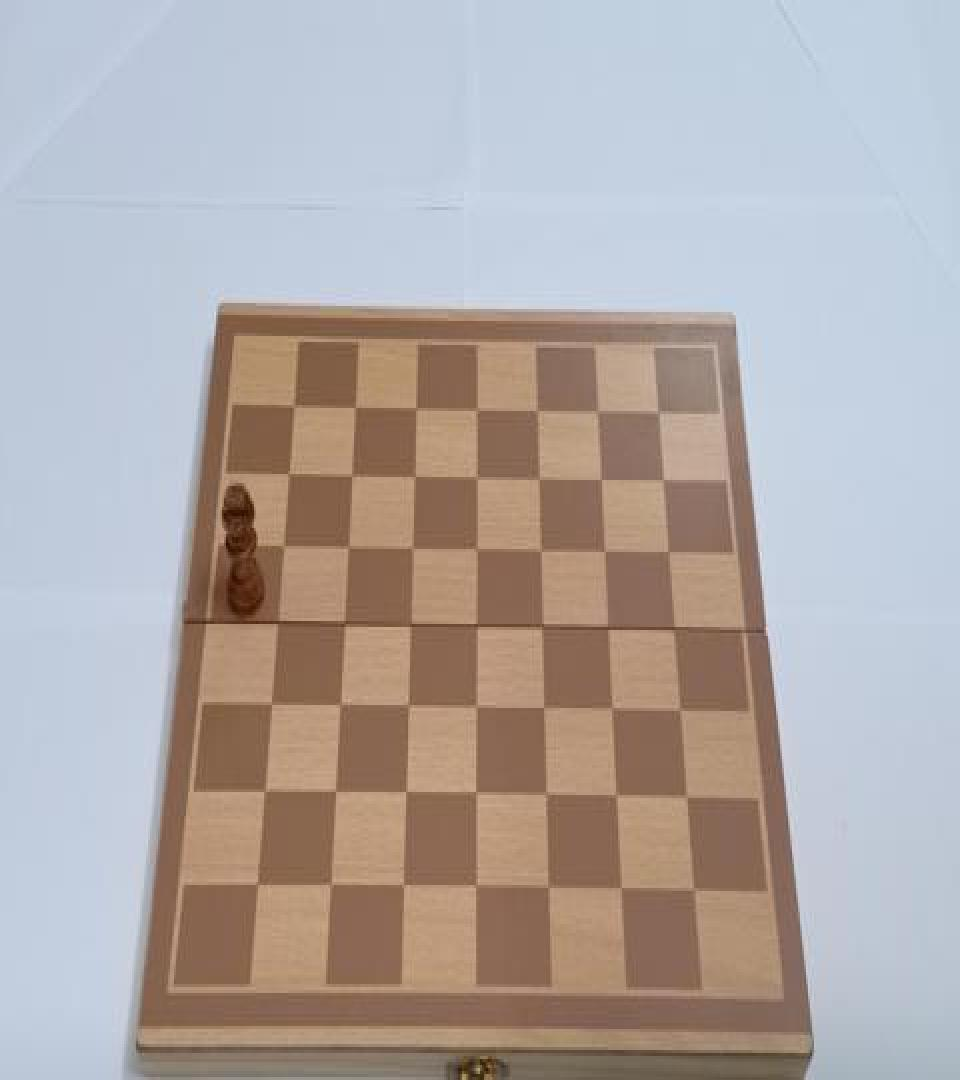xcorner: (343, 460, 361, 488), (469, 394, 487, 422), (468, 694, 486, 722), (594, 466, 612, 494), (281, 459, 299, 486), (275, 531, 293, 558), (269, 609, 287, 636), (263, 690, 281, 717), (256, 777, 274, 804), (249, 870, 267, 897), (347, 393, 365, 420), (340, 532, 358, 559), (336, 610, 354, 637), (327, 778, 345, 805), (408, 393, 426, 420), (406, 462, 424, 489), (404, 534, 422, 561), (402, 612, 420, 639), (400, 693, 418, 720), (397, 780, 415, 807), (395, 873, 413, 900), (468, 874, 486, 901), (530, 396, 548, 423), (531, 465, 549, 492), (533, 537, 551, 564), (535, 615, 553, 642), (537, 696, 555, 723), (539, 783, 557, 810), (541, 876, 559, 903), (590, 397, 608, 424), (597, 538, 615, 565), (601, 617, 619, 644), (610, 785, 628, 812), (651, 399, 669, 426), (657, 468, 675, 495), (662, 540, 680, 567), (668, 618, 686, 645), (674, 699, 692, 726), (681, 786, 699, 813), (688, 880, 706, 907), (286, 392, 304, 418), (331, 692, 349, 718), (322, 872, 340, 898), (469, 464, 487, 490), (468, 536, 486, 562), (468, 614, 486, 640), (468, 782, 486, 808), (605, 698, 623, 724), (614, 878, 632, 904)
